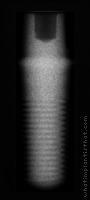Implant Direct: (16, 12, 74, 192)
